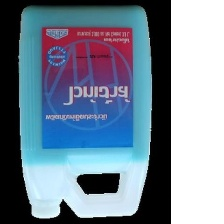cleaning_solution: (15, 3, 154, 221)
